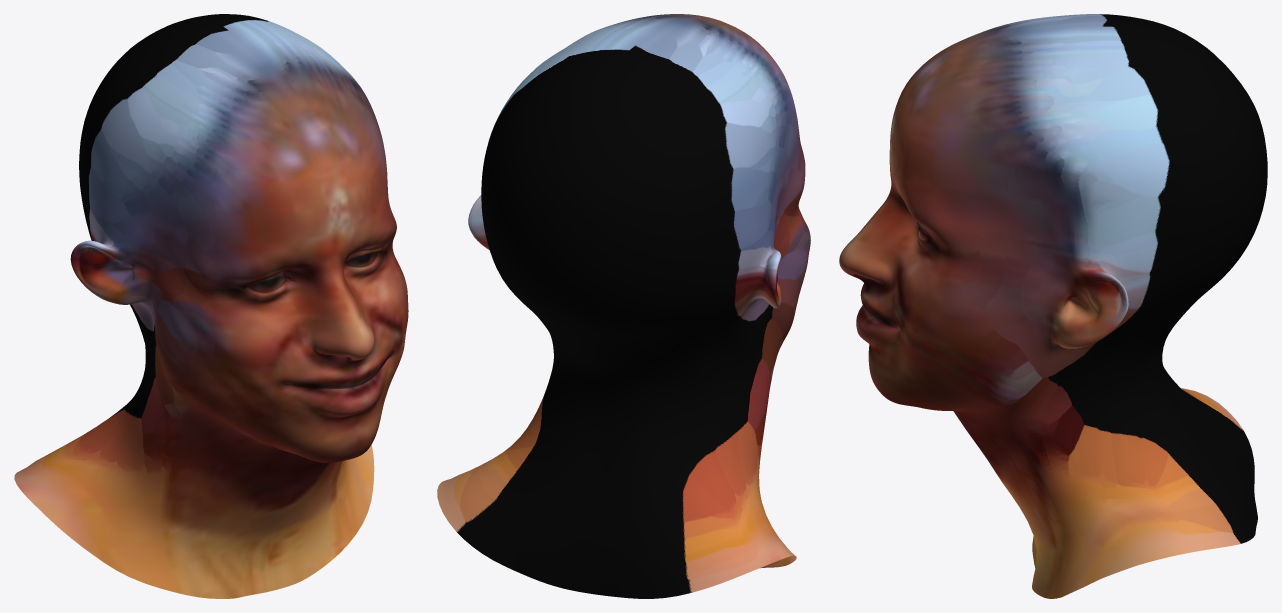
The model's file is YogiModel.glb.
3 views of the same model, side by side, from view 1: azimuth 30°, elevation 25°; view 2: azimuth 150°, elevation 25°; view 3: azimuth 270°, elevation 25° (orthographic).
Parts seen in each view (by area): view 1: FBHead; view 2: FBHead; view 3: FBHead.
Part boxes in pixels (x1,y1,x2,y2): FBHead: (14,14,408,598); FBHead: (437,14,810,598); FBHead: (839,14,1267,598).
Bounding box in the file's own units: 1.57 × 2.42 × 1.72.
1 material, 1 textured.
